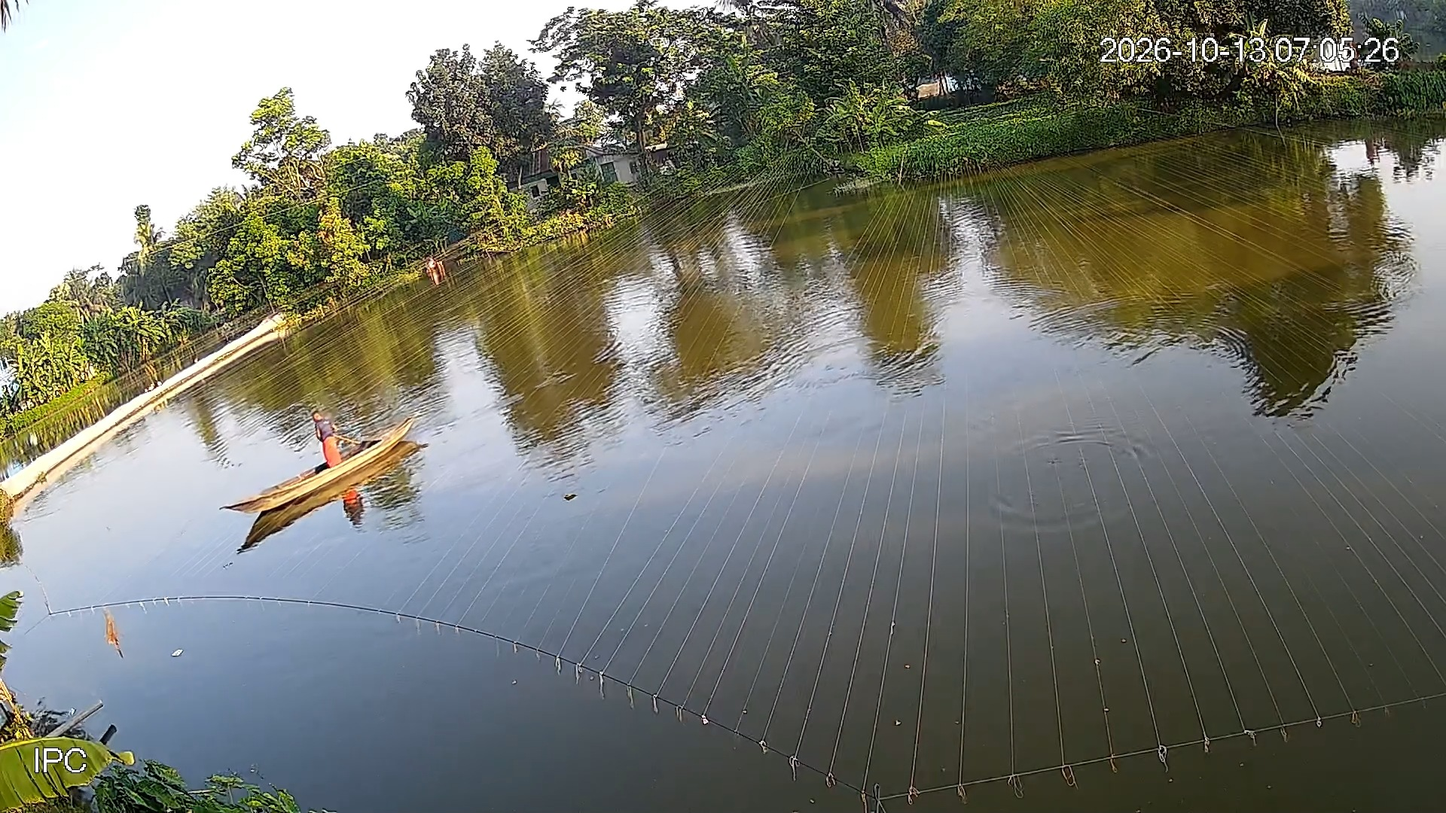Boat: (213, 414, 425, 518)
Human Feeder: (305, 405, 348, 474)
